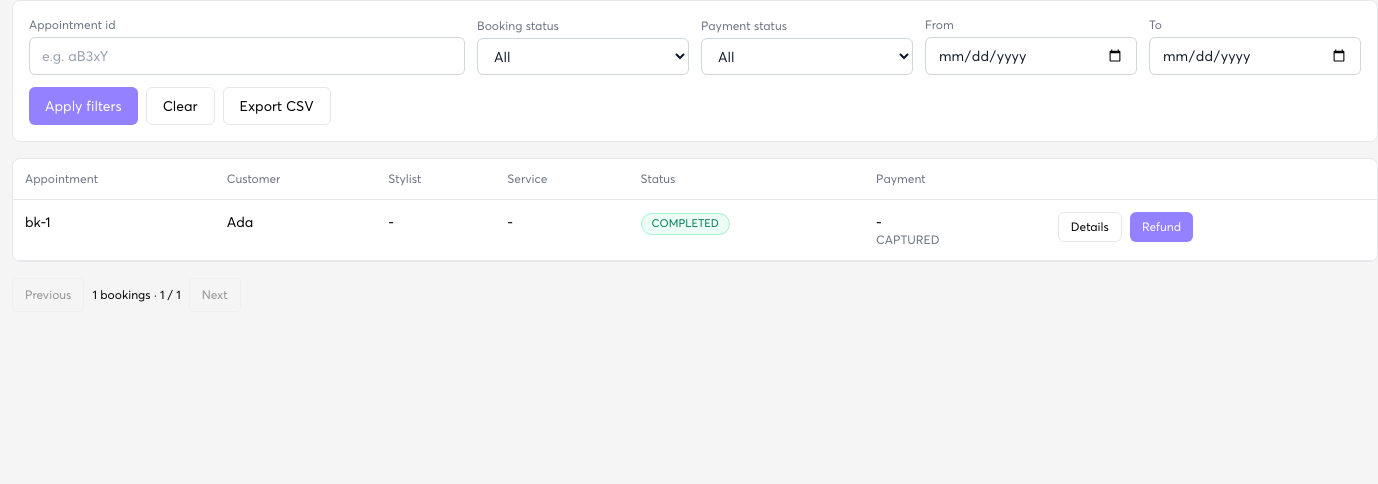
Scenario: a manager's screens › an owner still sees the booking's money in its detail
Expected: the text "Ada" is shown, [227,213,253,230]
Click the button "Details": coordinates (1090, 227) [1058,212,1122,242]
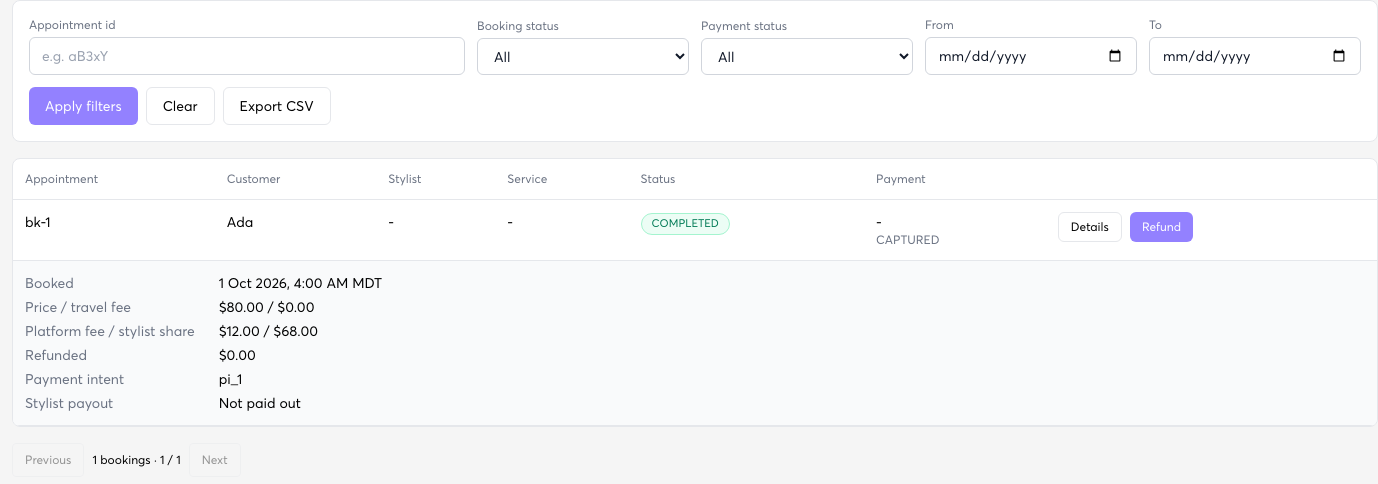
Expected: the text "Price / travel fee" is shown, [25,298,131,315]
Expected: the text "pi_1" is shown, [219,370,242,387]
